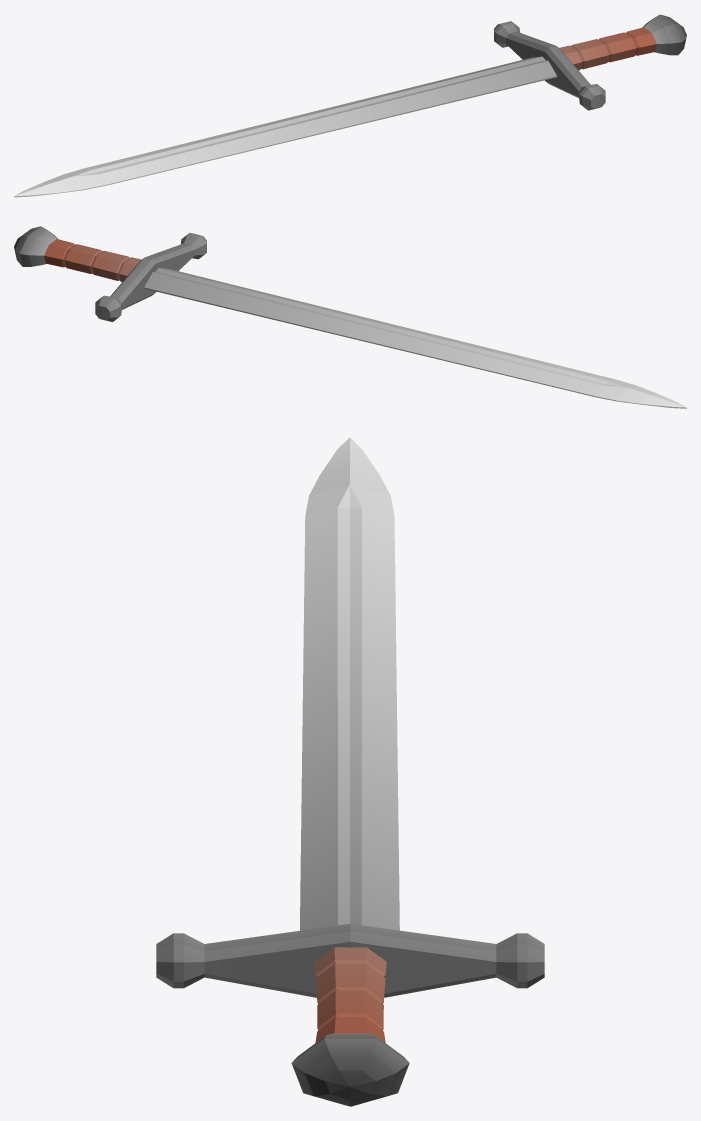
File: Sword_B.fbx
3 views of the same model, one above another, from view 1: azimuth 30°, elevation 25°; view 2: azimuth 150°, elevation 25°; view 3: azimuth 270°, elevation 25° (orthographic). The views are drawn at different scales.
Visible parts, largest first — view 1: Sword_B; view 2: Sword_B; view 3: Sword_B.
Part boxes in pixels (box(x1,y1,x2,y2)): Sword_B: box(14, 14, 686, 197); Sword_B: box(14, 226, 686, 408); Sword_B: box(156, 437, 544, 1106).
Bounding box in the file's own units: 0.0129 × 0.000668 × 0.00324.
